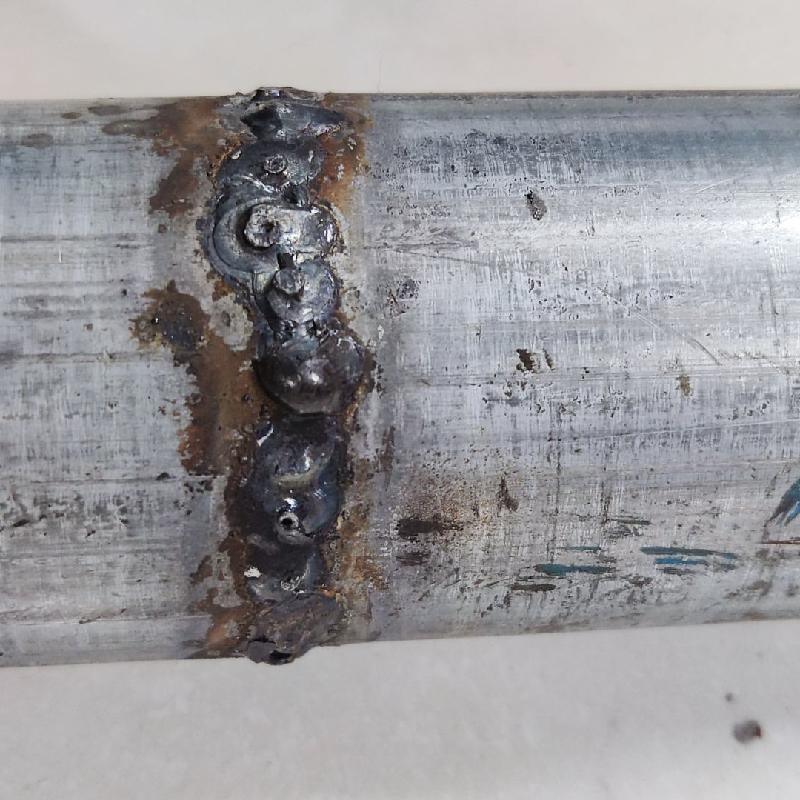Not_fully_soldered: (243, 545, 338, 650)
Surface_pores: (266, 501, 310, 533)
Weld: (248, 424, 345, 543), (248, 336, 355, 414)
wrong_size: (229, 85, 335, 326)
